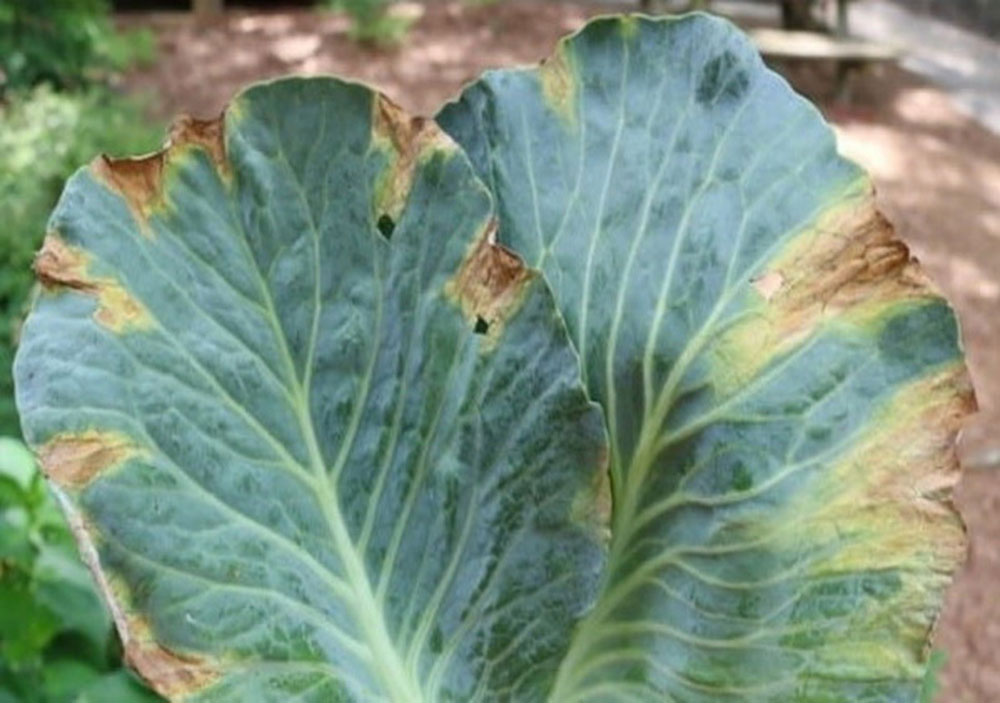Cabbage_Blight: (19, 89, 550, 703), (605, 66, 945, 703)
